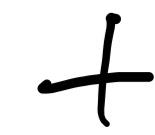plus: (37, 12, 154, 127)
